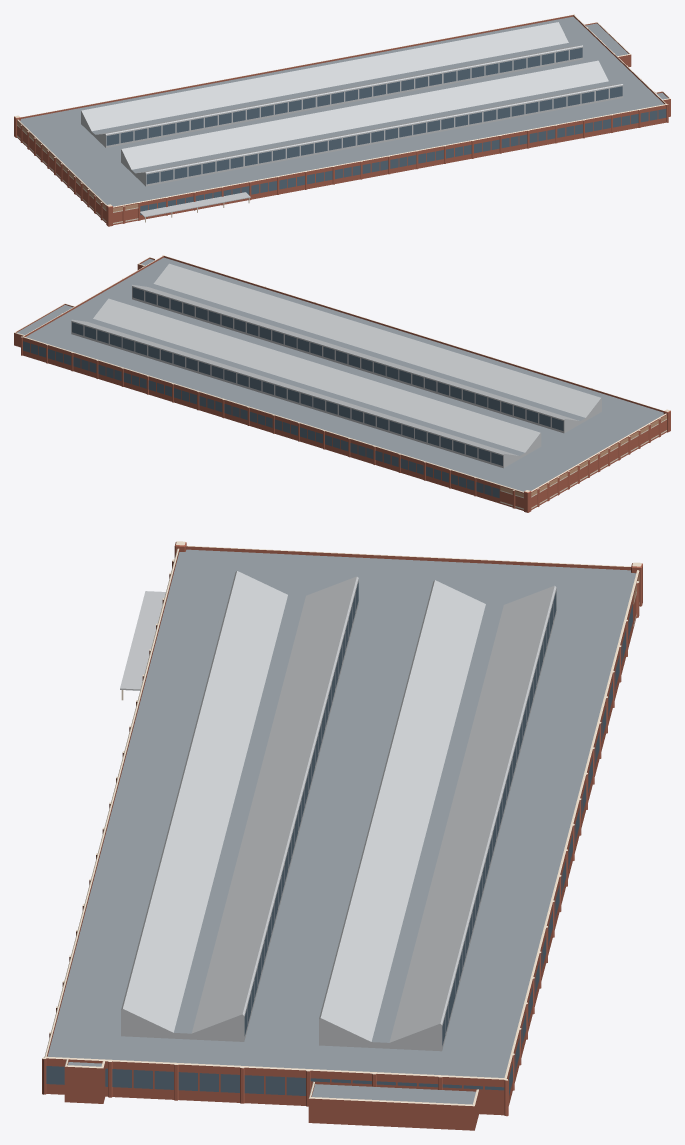
The model's file is detail.glb.
3 views of the same model, one above another, from view 1: azimuth 30°, elevation 25°; view 2: azimuth 150°, elevation 25°; view 3: azimuth 270°, elevation 25° (orthographic). The views are drawn at different scales.
Parts seen in each view (by area): view 1: historic-ford-factory; view 2: historic-ford-factory; view 3: historic-ford-factory.
Boxes of the visible parts, x1,y1,x2,y2 form: historic-ford-factory: [14, 14, 670, 226]; historic-ford-factory: [14, 255, 670, 512]; historic-ford-factory: [42, 541, 642, 1130].
Bounding box in the file's own units: 261 × 13.4 × 120.
